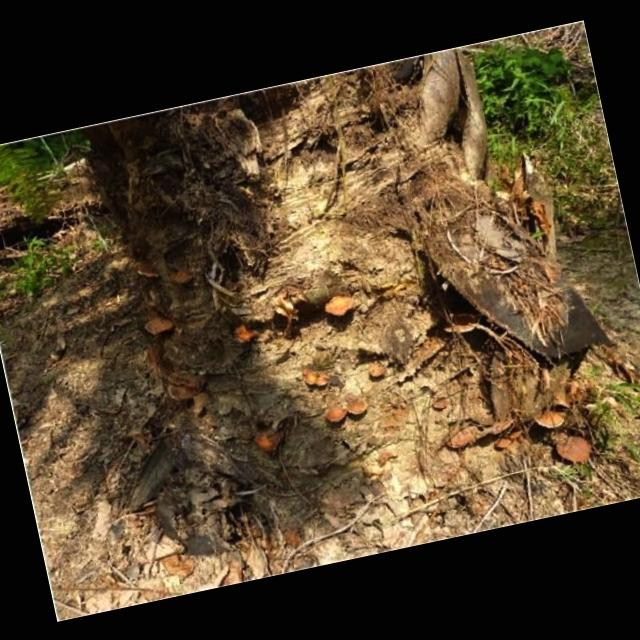ganoderma: (164, 366, 209, 404), (252, 423, 288, 457), (443, 423, 480, 452), (442, 311, 482, 337), (323, 292, 358, 320), (534, 408, 570, 432), (144, 314, 178, 337), (304, 368, 331, 390), (136, 261, 162, 283), (345, 396, 371, 418), (325, 407, 349, 424), (369, 364, 390, 383), (494, 437, 515, 451), (432, 398, 451, 412), (508, 427, 526, 441)
